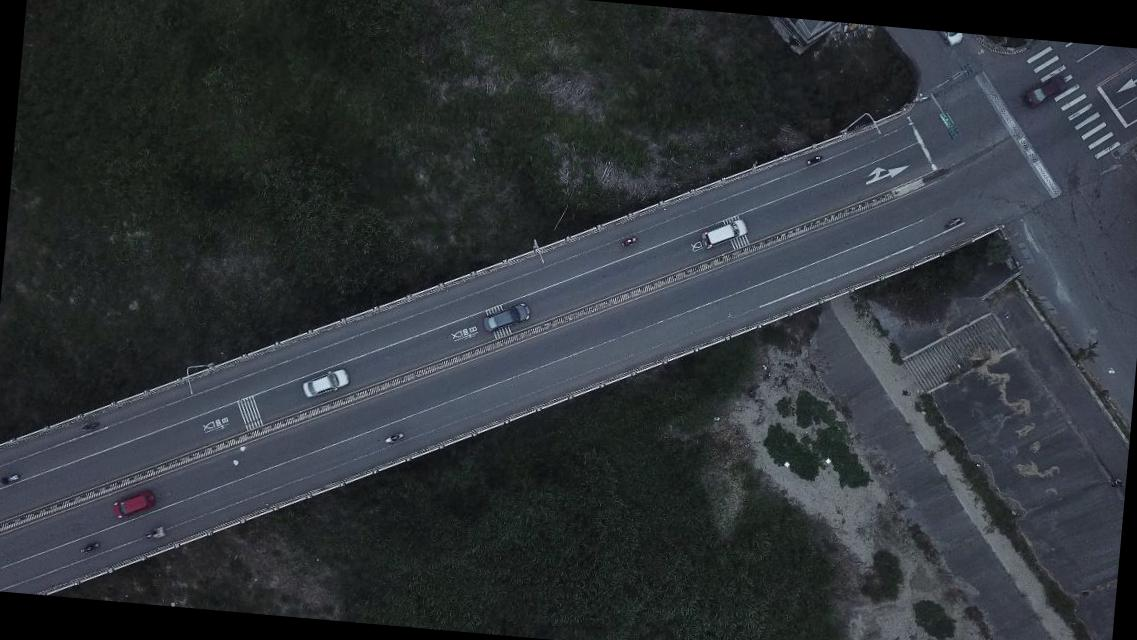vehicle: (299, 365, 351, 402), (480, 300, 530, 336), (699, 216, 748, 252), (1024, 72, 1068, 109), (111, 488, 154, 522), (939, 33, 962, 51)
